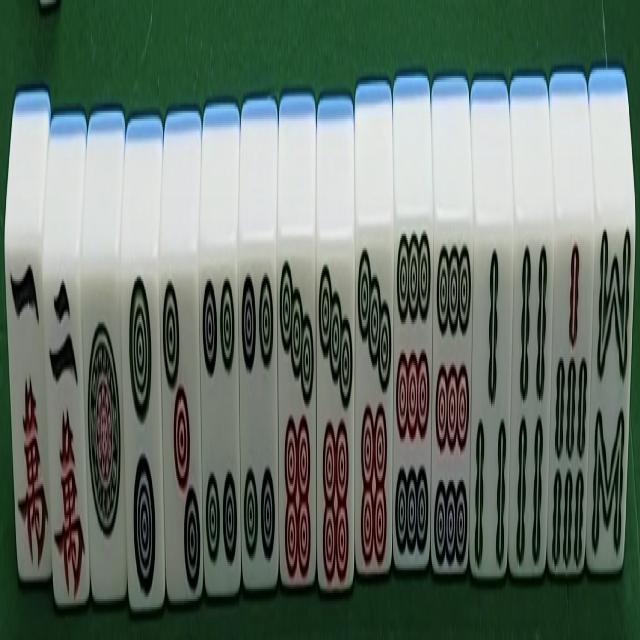m1: (4, 97, 52, 599)
m2: (42, 109, 89, 623)
s3: (468, 77, 512, 598)
s4: (507, 74, 552, 604)
s7: (546, 67, 594, 600)
s8: (584, 66, 635, 595)
t1: (79, 107, 127, 617)
t2: (120, 117, 166, 623)
t3: (158, 110, 202, 617)
t4: (197, 100, 242, 608), (238, 94, 280, 605)
t7: (353, 78, 394, 592), (277, 89, 317, 606), (315, 89, 354, 598)
t9: (431, 70, 475, 591), (391, 72, 432, 588)
